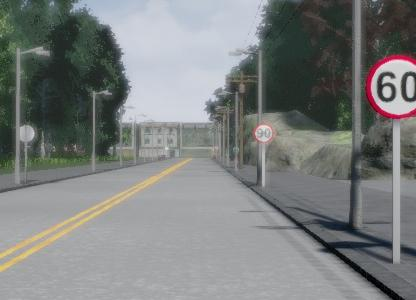Speed_60: (365, 52, 416, 118)
